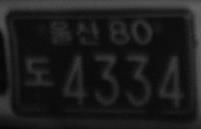0: (130, 18, 153, 46)
3: (124, 54, 153, 106), (93, 53, 120, 107)
4: (157, 54, 186, 108), (62, 53, 90, 106)
8: (108, 19, 130, 45)
도: (24, 56, 54, 88)
울산_O: (48, 19, 100, 47)
